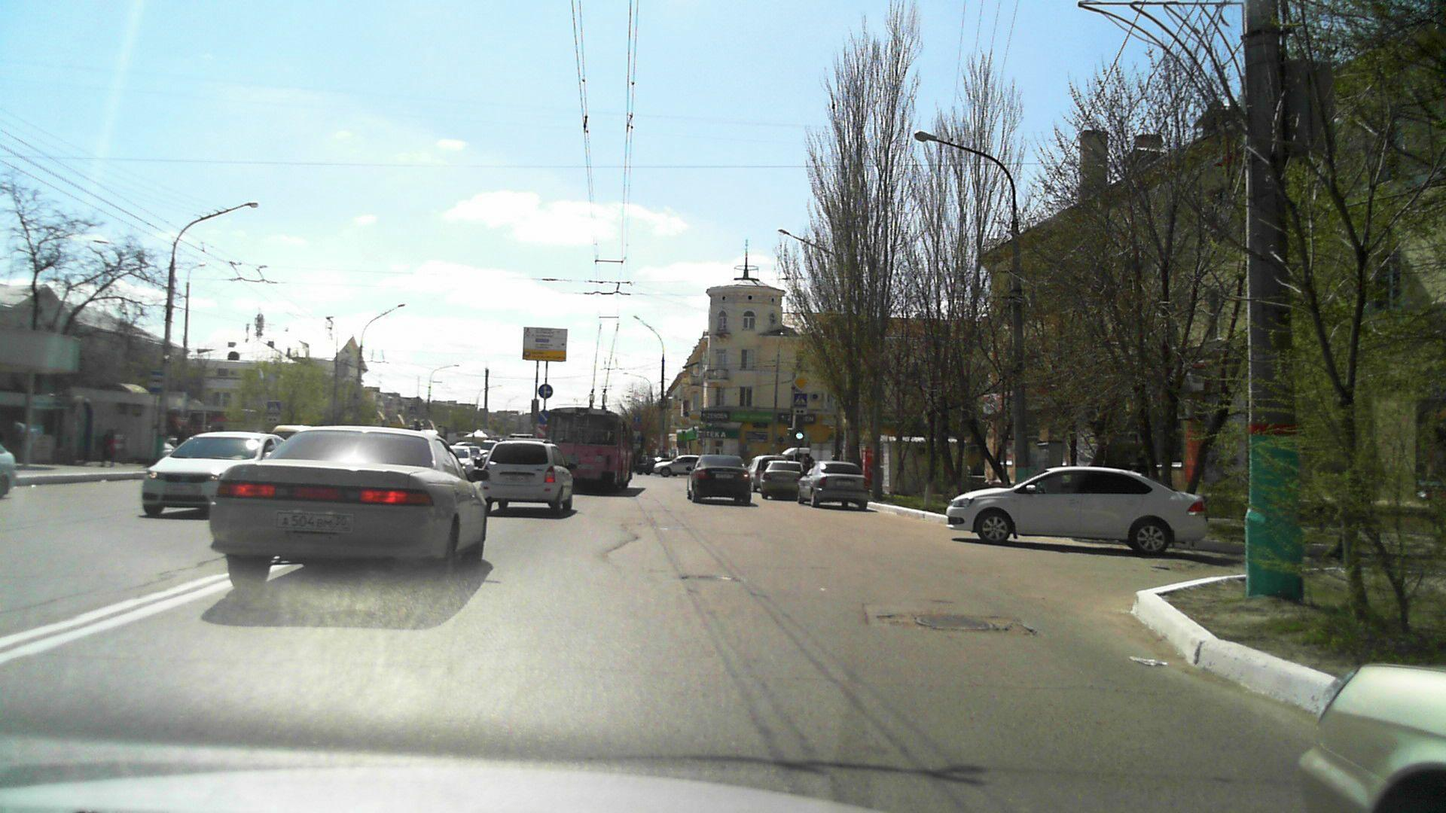obstructed_road_sign: (537, 410, 549, 424)
road_sign: (791, 373, 811, 392), (538, 384, 553, 399), (794, 393, 807, 407), (793, 408, 807, 414)
